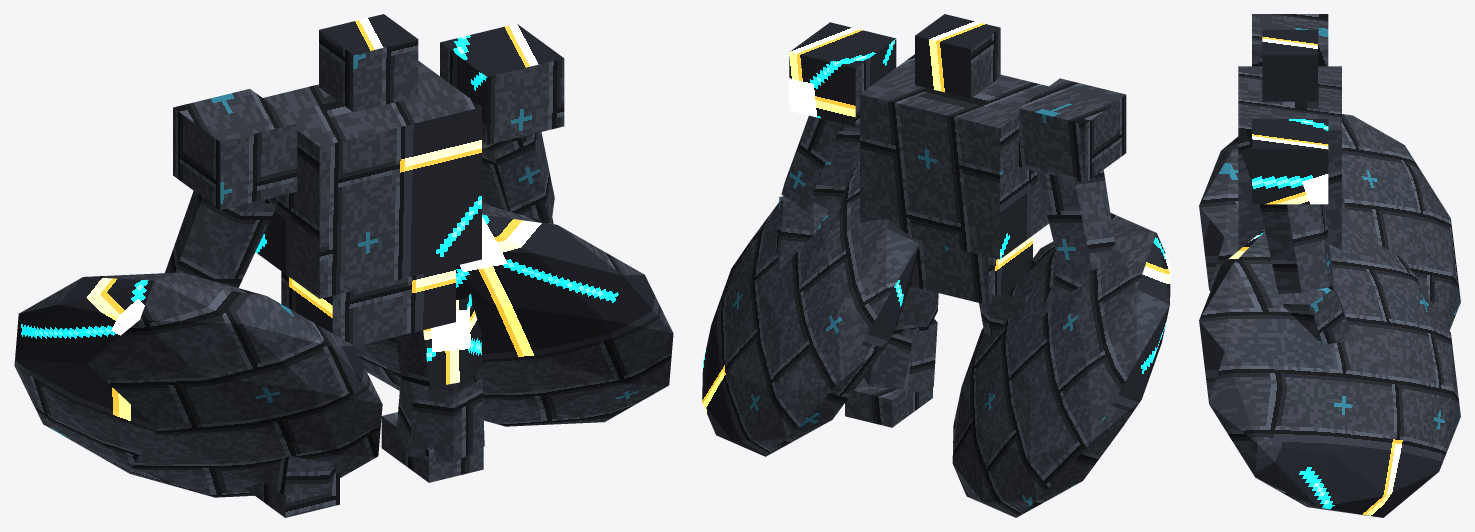
The model's file is geode_golem.glb.
The picture shows the model from 3 angles, left to right: view 1: azimuth 30°, elevation 25°; view 2: azimuth 150°, elevation 25°; view 3: azimuth 270°, elevation 25°; orthographic projection. The views are drawn at different scales.
Parts seen in each view (by area): view 1: GeodeGolem; view 2: GeodeGolem; view 3: GeodeGolem.
Part boxes in pixels (x1,y1,x2,y2): GeodeGolem: [14, 14, 673, 517]; GeodeGolem: [702, 14, 1170, 517]; GeodeGolem: [1199, 14, 1460, 517].
Bounding box in the file's own units: 3.31 × 2.68 × 1.64.
1 material, 1 textured.
